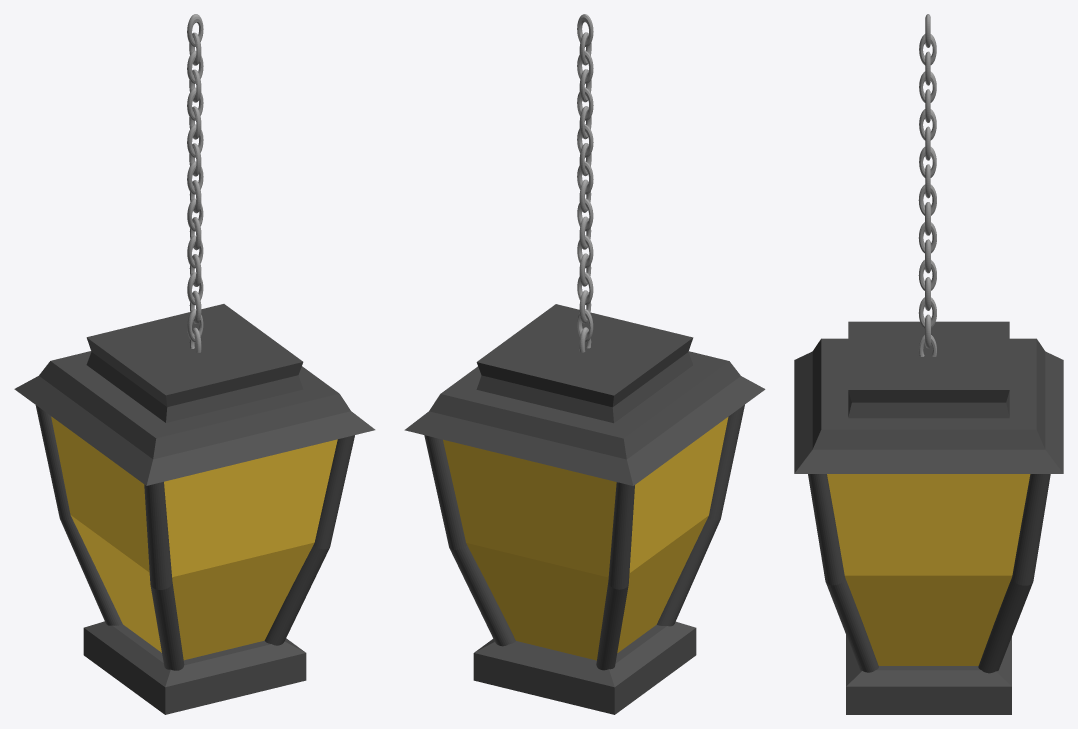
Rendered from lantern.fbx.
The picture shows the model from 3 angles, left to right: view 1: azimuth 30°, elevation 25°; view 2: azimuth 150°, elevation 25°; view 3: azimuth 270°, elevation 25°; orthographic projection.
Visible parts, largest first — view 1: Cube, Cube.001, Cube.002, Torus.001, Torus.002; view 2: Cube.001, Cube, Cube.002, Torus.001, Torus.002; view 3: Cube, Cube.001, Cube.002, Torus.002, Torus.001.
Part boxes in pixels (x1=…): Cube: x1=14, y1=304, x2=375, y2=485; Cube.001: x1=51, y1=416, x2=337, y2=660; Cube.002: x1=35, y1=405, x2=354, y2=714; Torus.001: x1=187, y1=14, x2=203, y2=194; Torus.002: x1=187, y1=180, x2=203, y2=352; Cube.001: x1=443, y1=417, x2=728, y2=660; Cube: x1=404, y1=304, x2=765, y2=485; Cube.002: x1=424, y1=404, x2=744, y2=714; Torus.001: x1=577, y1=14, x2=593, y2=194; Torus.002: x1=577, y1=179, x2=593, y2=352; Cube: x1=794, y1=321, x2=1063, y2=473; Cube.001: x1=827, y1=474, x2=1030, y2=665; Cube.002: x1=808, y1=474, x2=1050, y2=714; Torus.002: x1=918, y1=184, x2=936, y2=356; Torus.001: x1=919, y1=14, x2=936, y2=198.
Bounding box in the file's own units: 260 × 719 × 260.
